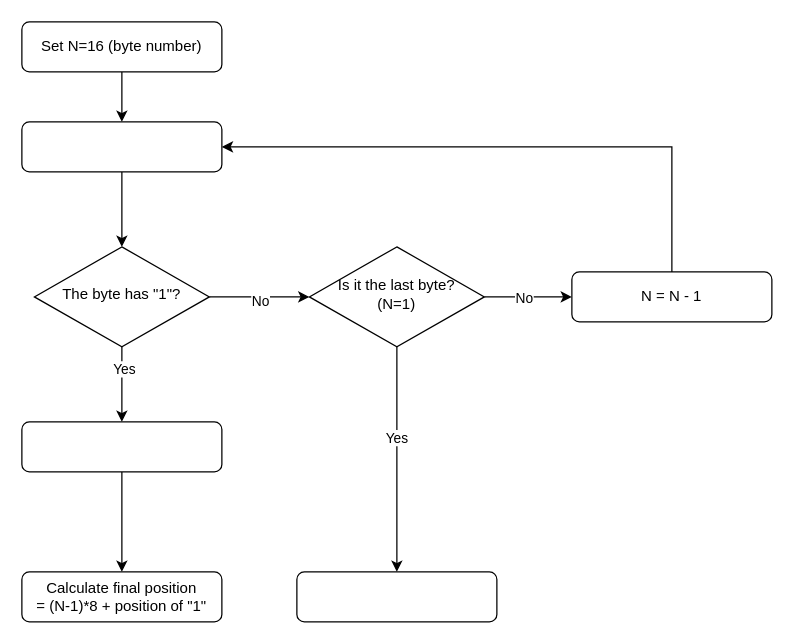
Some shapes in this 794 by 644 pixel diagram are drawn without their labels. Each missing label, with the centre of its shape:
Get position of "1" within the byte starting from zero: (121,446)
No "1" is present in 16 bytes. Return 0xFF: (396,596)
Read the most-significant byte at position N: (121,146)
